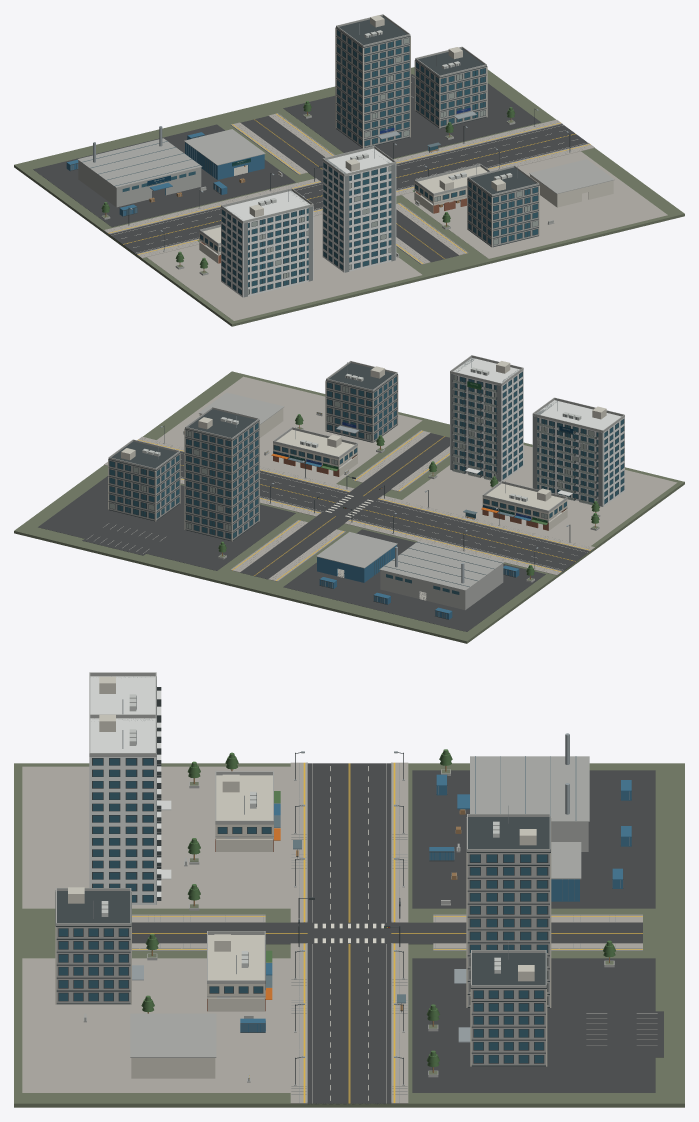
Rendered from korean_city_layout.glb.
The picture shows the model from 3 angles, top to bottom: view 1: azimuth 30°, elevation 25°; view 2: azimuth 150°, elevation 25°; view 3: azimuth 270°, elevation 25°; orthographic projection. The views are drawn at different scales.
Visible parts, largest first — view 1: city_ground_130, office_tower_071, apartment_slab_074, apartment_tower_075, factory_hall_069, office_midrise_072, office_midrise_079, warehouse_070, auto_workshop_078, retail_row_077, boulevard_30m_008, boulevard_30m_002 (+8 smaller); view 2: city_ground_130, office_tower_071, apartment_slab_074, apartment_tower_075, factory_hall_069, office_midrise_079, office_midrise_072, retail_row_077, retail_row_076, warehouse_070, boulevard_30m_002, boulevard_30m_001 (+11 smaller); view 3: city_ground_130, apartment_tower_075, office_tower_071, office_midrise_072, office_midrise_079, factory_hall_069, auto_workshop_078, retail_row_076, retail_row_077, boulevard_30m_008, boulevard_30m_001, boulevard_30m_002 (+11 smaller).
Part boxes in pixels (left/top/right/bottom): city_ground_130: left=14, top=67, right=684, bottom=326; office_tower_071: left=335, top=14, right=410, bottom=148; apartment_slab_074: left=221, top=188, right=313, bottom=297; apartment_tower_075: left=322, top=145, right=396, bottom=272; factory_hall_069: left=77, top=126, right=202, bottom=207; office_midrise_072: left=414, top=46, right=487, bottom=128; office_midrise_079: left=467, top=165, right=539, bottom=247; warehouse_070: left=184, top=129, right=265, bottom=179; auto_workshop_078: left=529, top=159, right=614, bottom=207; retail_row_077: left=413, top=164, right=490, bottom=213; boulevard_30m_008: left=492, top=124, right=588, bottom=160; boulevard_30m_002: left=109, top=217, right=199, bottom=254; city_ground_130: left=14, top=371, right=684, bottom=643; office_tower_071: left=184, top=407, right=259, bottom=541; apartment_slab_074: left=532, top=397, right=624, bottom=506; apartment_tower_075: left=450, top=355, right=523, bottom=481; factory_hall_069: left=379, top=541, right=504, bottom=610; office_midrise_079: left=325, top=361, right=398, bottom=442; office_midrise_072: left=108, top=439, right=180, bottom=521; retail_row_077: left=271, top=427, right=357, bottom=476; retail_row_076: left=481, top=481, right=567, bottom=530; warehouse_070: left=316, top=532, right=397, bottom=582; boulevard_30m_002: left=492, top=534, right=589, bottom=571; boulevard_30m_001: left=422, top=517, right=518, bottom=553; city_ground_130: left=14, top=763, right=684, bottom=1107; apartment_tower_075: left=89, top=714, right=171, bottom=904; office_tower_071: left=454, top=805, right=551, bottom=1007; office_midrise_072: left=458, top=941, right=547, bottom=1066; office_midrise_079: left=55, top=887, right=143, bottom=1004; factory_hall_069: left=457, top=733, right=589, bottom=851; auto_workshop_078: left=130, top=1013, right=216, bottom=1078; retail_row_076: left=215, top=771, right=280, bottom=851; retail_row_077: left=207, top=931, right=272, bottom=1011; boulevard_30m_008: left=307, top=1050, right=391, bottom=1104; boulevard_30m_001: left=307, top=816, right=391, bottom=869; boulevard_30m_002: left=307, top=763, right=391, bottom=816.
Bounding box in the file's own units: 192 × 46.85 × 160.
23 materials, 1 textured.
